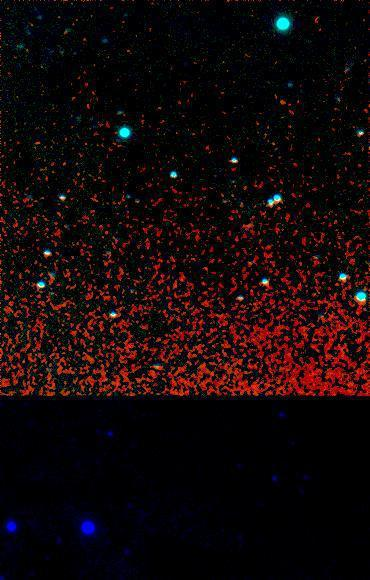star: (267, 86, 297, 116)
